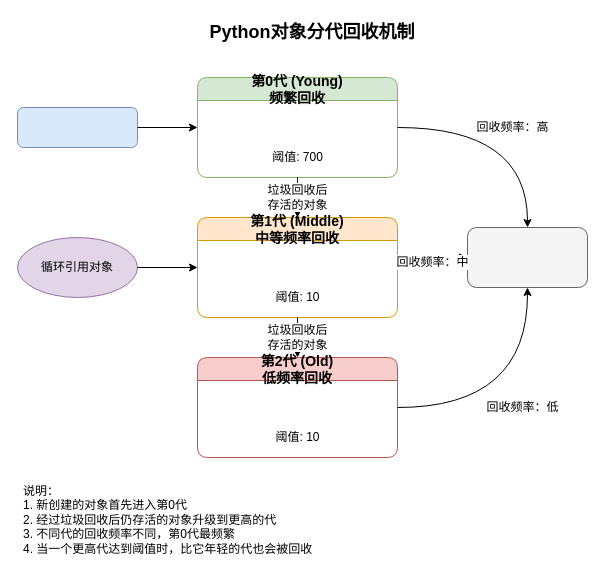
Some shapes in this 605 by 577 pixel diagram are drawn without their labels. Here are the shapes that lost their labels. From the top down, the centre of each, then its label:
At [77,127]: "新创建的对象".
At [527,257]: "内存回收".
